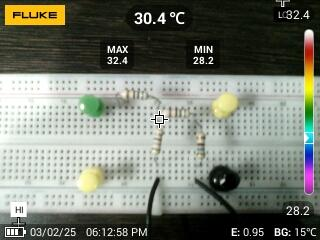resistor: (151, 125, 164, 162), (193, 131, 208, 162), (159, 107, 194, 119), (118, 89, 151, 101)
